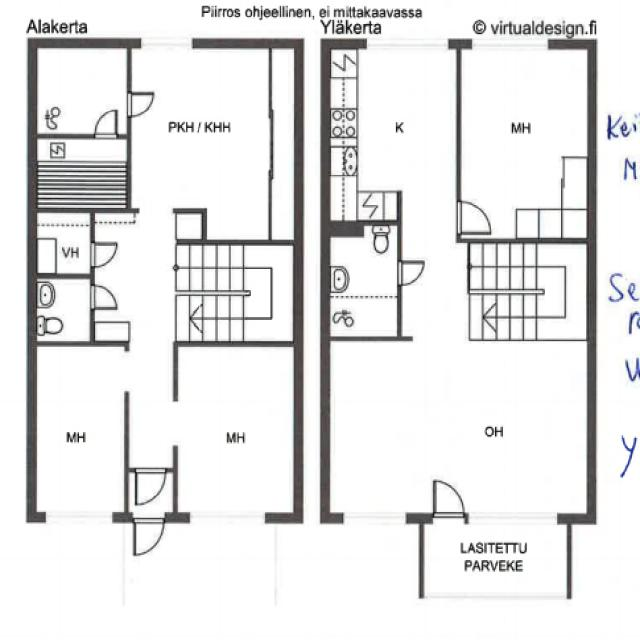door: (434, 478, 466, 523), (134, 512, 164, 556), (457, 202, 492, 234), (136, 468, 166, 505), (94, 109, 118, 139), (126, 93, 154, 117), (91, 285, 117, 309), (398, 261, 424, 285), (91, 244, 117, 267)
